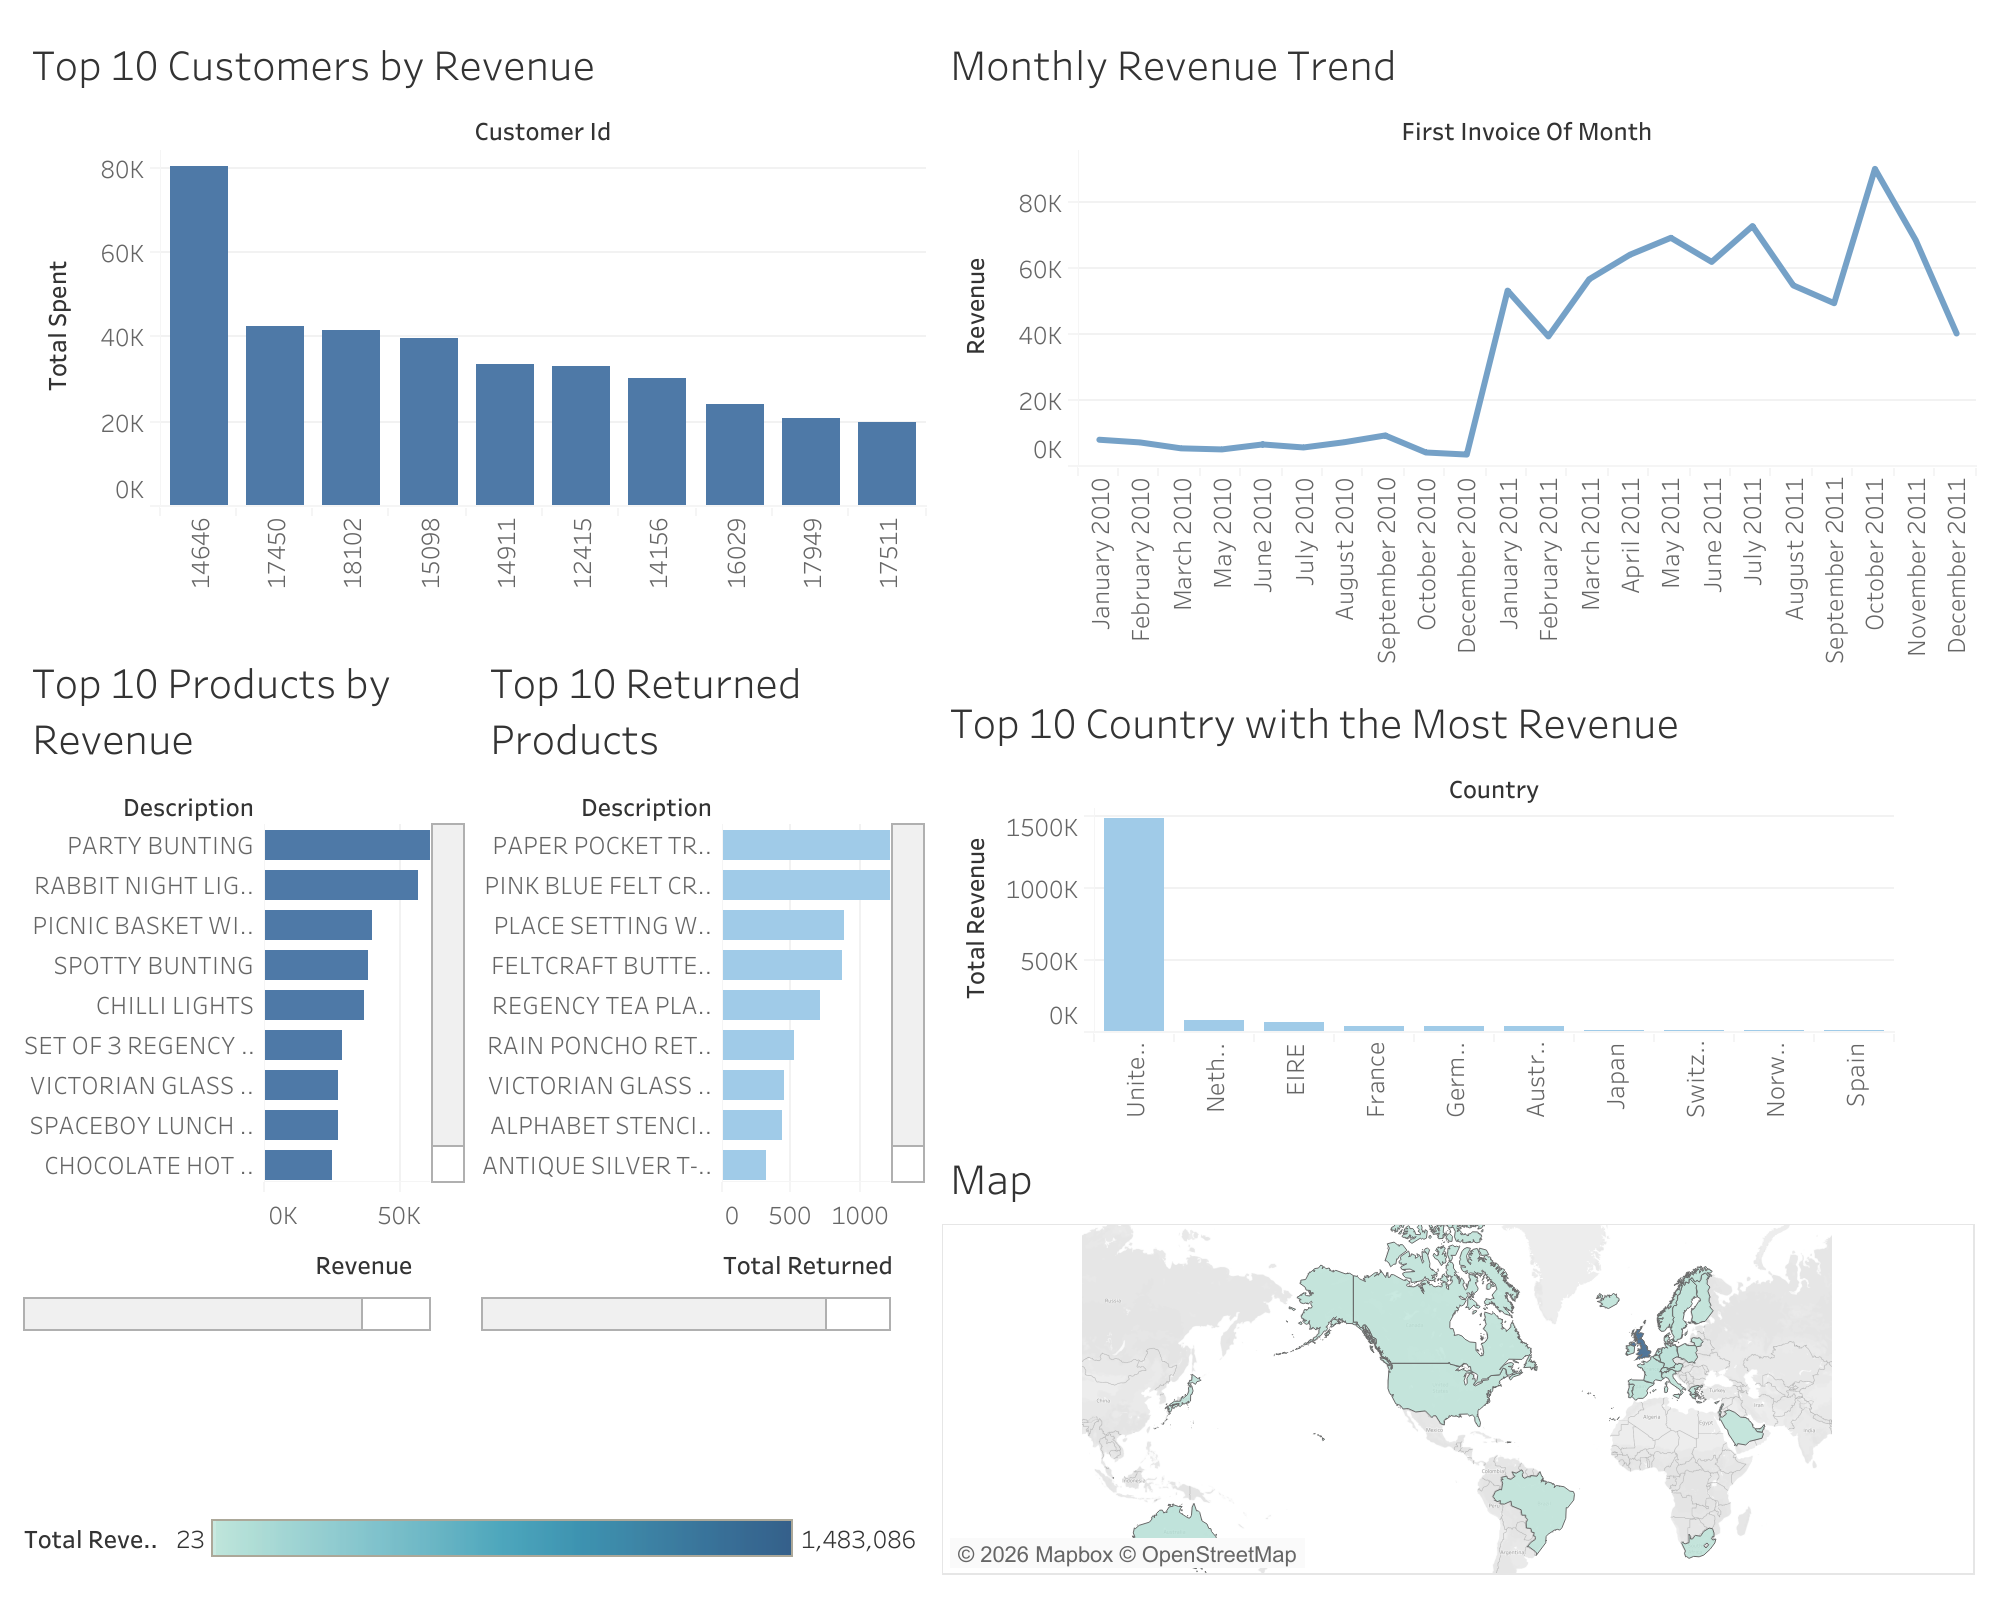

The dashboard page shown, as its layout file describes it:
{"tool":"tableau","page":{"name":"Dashboard 1","canvas":[1000,800],"ordinal":0},"visuals":[{"type":"worksheet","title":"Customers","mark":"Automatic","rows":["total_spent"],"cols":["customer_id"],"box":[8,8,458.6,309]},{"type":"worksheet","title":"Monthly","mark":"Automatic","rows":["revenue"],"cols":["first_invoice_of_month"],"box":[466.6,8,525.4,329]},{"type":"worksheet","title":"Products","mark":"Automatic","rows":["description"],"cols":["revenue"],"box":[8,317,229.3,353]},{"type":"worksheet","title":"Returned","mark":"Automatic","rows":["description"],"cols":["total_returned"],"box":[237.3,317,229.3,353]},{"type":"worksheet","title":"Country","mark":"Automatic","rows":["total_revenue"],"cols":["country"],"box":[466.6,337,525.4,227.5]},{"type":"worksheet","title":"Map","mark":"Automatic","box":[466.6,564.5,525.4,227.5]},{"type":"legend","title":"Products","param":"[federated.0kg5vsy0qrrlry19h25nb1u4s4hb].[sum:revenue:qk]","box":[8,670,229.3,82]},{"type":"legend","title":"Returned","param":"[federated.1ahhkm80lmtilo193866o1o4s0ch].[sum:total_returned:qk]","box":[237.3,670,229.3,82]},{"type":"legend","title":"Map","param":"[federated.0bd8ht50hru39813h89hh05tunqm].[sum:total_revenue:qk]","box":[8,752,458.6,40]}]}

Visuals, with their boxes in screenshot pixels (x1, y1, x2, y2), scaled from the page's 1000x800 canvas onto the 2000x1600 screenshot:
"Customers" worksheet: (x1=16, y1=16, x2=933, y2=634)
"Monthly" worksheet: (x1=933, y1=16, x2=1984, y2=674)
"Products" worksheet: (x1=16, y1=634, x2=475, y2=1340)
"Returned" worksheet: (x1=475, y1=634, x2=933, y2=1340)
"Country" worksheet: (x1=933, y1=674, x2=1984, y2=1129)
"Map" worksheet: (x1=933, y1=1129, x2=1984, y2=1584)
"Products" legend: (x1=16, y1=1340, x2=475, y2=1504)
"Returned" legend: (x1=475, y1=1340, x2=933, y2=1504)
"Map" legend: (x1=16, y1=1504, x2=933, y2=1584)
